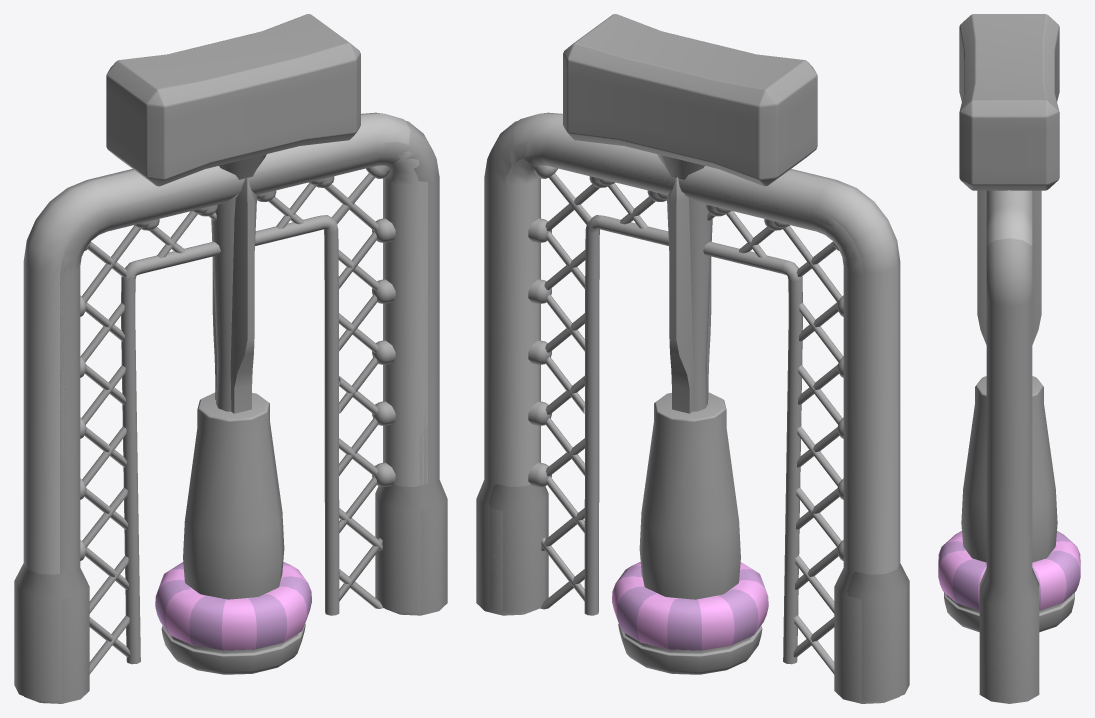
File: Props.fbx
3 views of the same model, side by side, from view 1: azimuth 30°, elevation 25°; view 2: azimuth 150°, elevation 25°; view 3: azimuth 270°, elevation 25° (orthographic). The views are drawn at different scales.
Visible parts, largest first — view 1: LazerGate, Hammer, Watergate, FlatChieselLow, Cleaner; view 2: LazerGate, Hammer, Watergate, FlatChieselLow, Cleaner; view 3: Watergate, Hammer, FlatChieselLow, Cleaner, LazerGate.
Part boxes in pixels (bbox=[...]): LazerGate: bbox=[14, 112, 434, 701]; Hammer: bbox=[106, 14, 360, 411]; Watergate: bbox=[24, 121, 447, 703]; FlatChieselLow: bbox=[183, 177, 284, 599]; Cleaner: bbox=[155, 562, 311, 674]; LazerGate: bbox=[489, 112, 909, 701]; Hammer: bbox=[563, 14, 817, 411]; Watergate: bbox=[476, 121, 899, 703]; FlatChieselLow: bbox=[639, 177, 740, 599]; Cleaner: bbox=[612, 562, 768, 674]; Watergate: bbox=[979, 238, 1039, 703]; Hammer: bbox=[959, 14, 1059, 190]; FlatChieselLow: bbox=[961, 190, 1057, 562]; Cleaner: bbox=[938, 531, 1080, 632]; LazerGate: bbox=[979, 190, 1039, 594].
Size of the model in its own units: 11 by 14.82 by 3.44.
